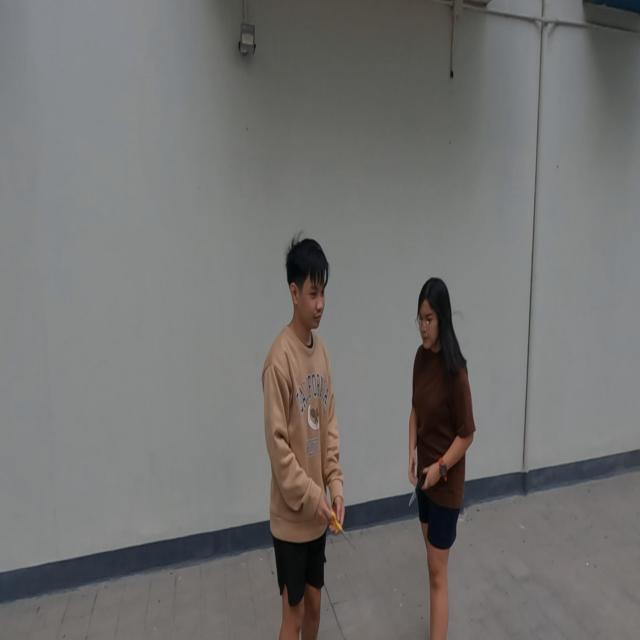scissor: (329, 511, 356, 552), (408, 464, 429, 509)
